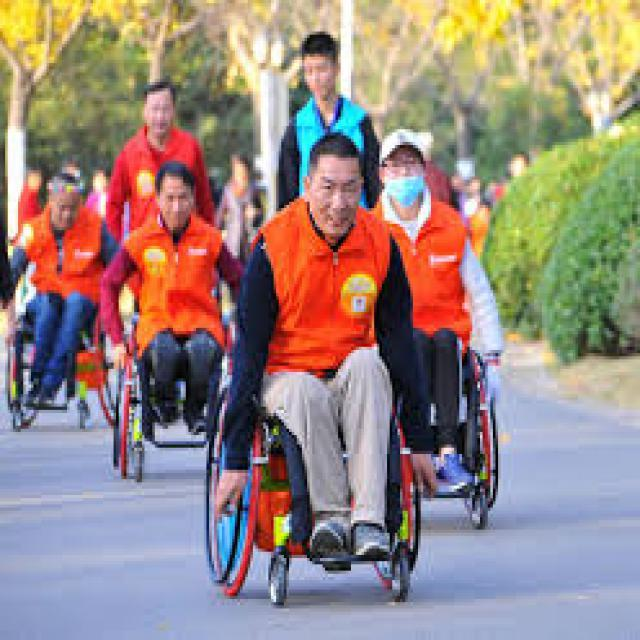wheelchairs: (209, 316, 423, 608), (405, 271, 521, 539), (113, 284, 234, 492), (0, 265, 119, 429)
